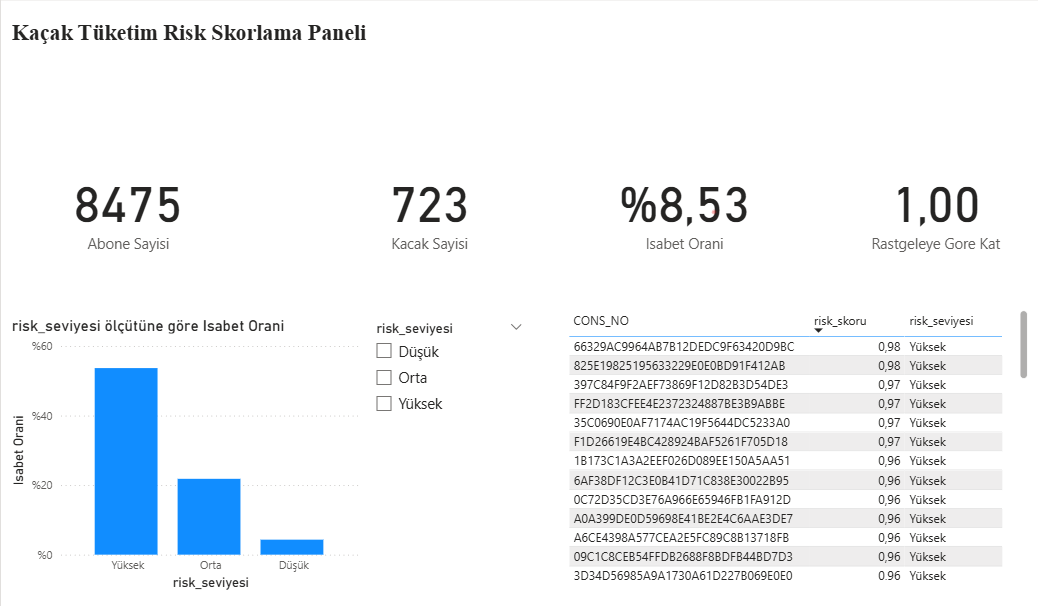

The dashboard page shown, as its layout file describes it:
{"tool":"powerbi","page":{"name":"1. sayfa","canvas":[1280,720],"ordinal":0},"visuals":[{"type":"card","fields":{"Values":["risk_scores_test.Abone Sayisi"]},"box":[0,137.2,279.9,279.9],"z":1},{"type":"card","fields":{"Values":["risk_scores_test.Kacak Sayisi"]},"box":[330.7,137.2,279.9,279.9],"z":2},{"type":"card","fields":{"Values":["risk_scores_test.Isabet Orani"]},"box":[610.6,137.2,279.9,279.9],"z":3},{"type":"card","fields":{"Values":["risk_scores_test.Rastgeleye Gore Kat"]},"box":[886.5,137.2,279.9,279.9],"z":4},{"type":"clusteredColumnChart","fields":{"Category":["risk_scores_test.risk_seviyesi"],"Y":["risk_scores_test.Isabet Orani"]},"box":[6.9,395.2,392.5,306],"z":5},{"type":"tableEx","fields":{"Values":["risk_scores_test.CONS_NO","risk_scores_test.risk_skoru","risk_scores_test.risk_seviyesi"]},"box":[617.5,384.2,514.6,306],"z":6},{"type":"slicer","fields":{"Values":["risk_scores_test.risk_seviyesi"]},"box":[399.3,395.2,185.2,306],"z":7},{"type":"textbox","box":[6.9,65.9,753.3,45.3],"z":8}]}

Visuals, with their boxes on the page's 1280x720 design canvas (x1, y1, x2, y2). These are canvas units, not pixel positions in the 1038x606 screenshot, which may show the page scaled, cropped or inside an application window:
card - risk_scores_test.Abone Sayisi: Rect(0, 137, 280, 417)
card - risk_scores_test.Kacak Sayisi: Rect(331, 137, 611, 417)
card - risk_scores_test.Isabet Orani: Rect(611, 137, 890, 417)
card - risk_scores_test.Rastgeleye Gore Kat: Rect(886, 137, 1166, 417)
clusteredColumnChart - risk_scores_test.risk_seviyesi x risk_scores_test.Isabet Orani: Rect(7, 395, 399, 701)
tableEx - risk_scores_test.CONS_NO x risk_scores_test.risk_skoru: Rect(618, 384, 1132, 690)
slicer - risk_scores_test.risk_seviyesi: Rect(399, 395, 584, 701)
textbox: Rect(7, 66, 760, 111)
